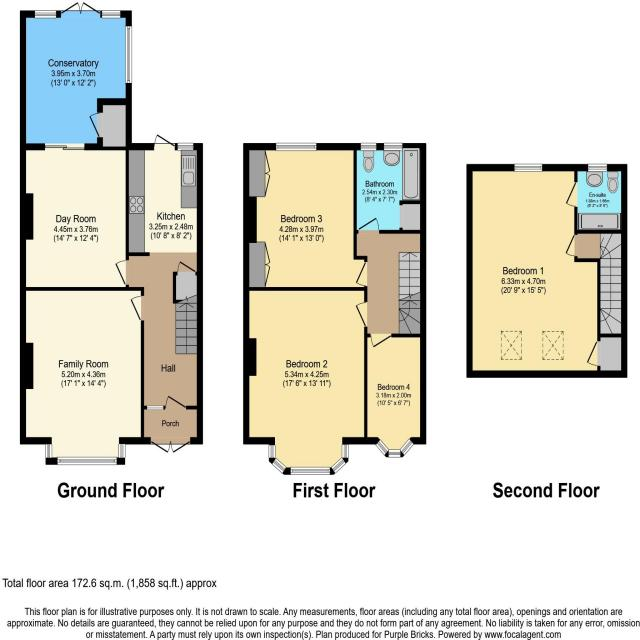DOOR: (113, 257, 130, 287), (585, 338, 601, 368), (356, 216, 381, 234), (129, 294, 145, 322), (564, 180, 579, 209), (369, 333, 393, 350), (355, 299, 368, 328), (153, 134, 176, 150), (355, 260, 368, 287)
ROOM: (466, 163, 628, 378), (113, 132, 203, 410), (242, 286, 368, 476), (20, 287, 145, 466), (243, 142, 368, 291), (19, 142, 130, 292), (364, 333, 426, 458)
SLIDING DOOR: (60, 1, 101, 18), (43, 143, 86, 151)
WINDOW: (55, 456, 118, 467), (124, 24, 133, 86), (274, 142, 318, 152), (289, 466, 332, 476), (513, 162, 544, 174), (330, 456, 348, 474), (399, 437, 415, 457), (270, 457, 287, 475), (373, 438, 389, 456), (34, 9, 58, 20), (100, 9, 121, 20), (586, 163, 609, 172), (118, 441, 126, 465), (382, 142, 403, 151), (44, 443, 54, 460), (359, 142, 377, 151), (177, 142, 194, 151), (341, 443, 350, 460), (387, 448, 402, 458), (268, 442, 276, 460), (146, 405, 164, 410)
